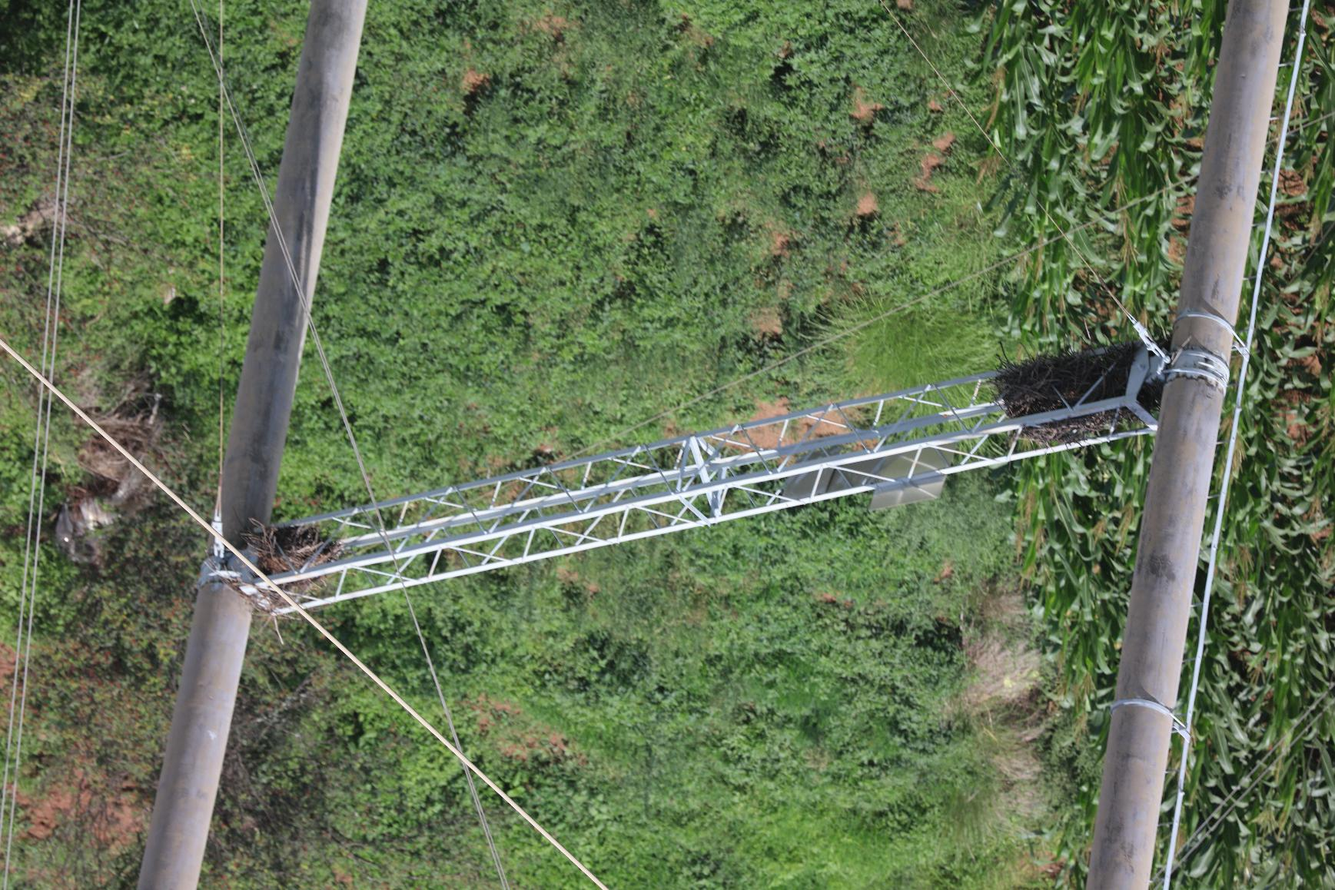nest: (987, 336, 1165, 448), (243, 516, 346, 609)
